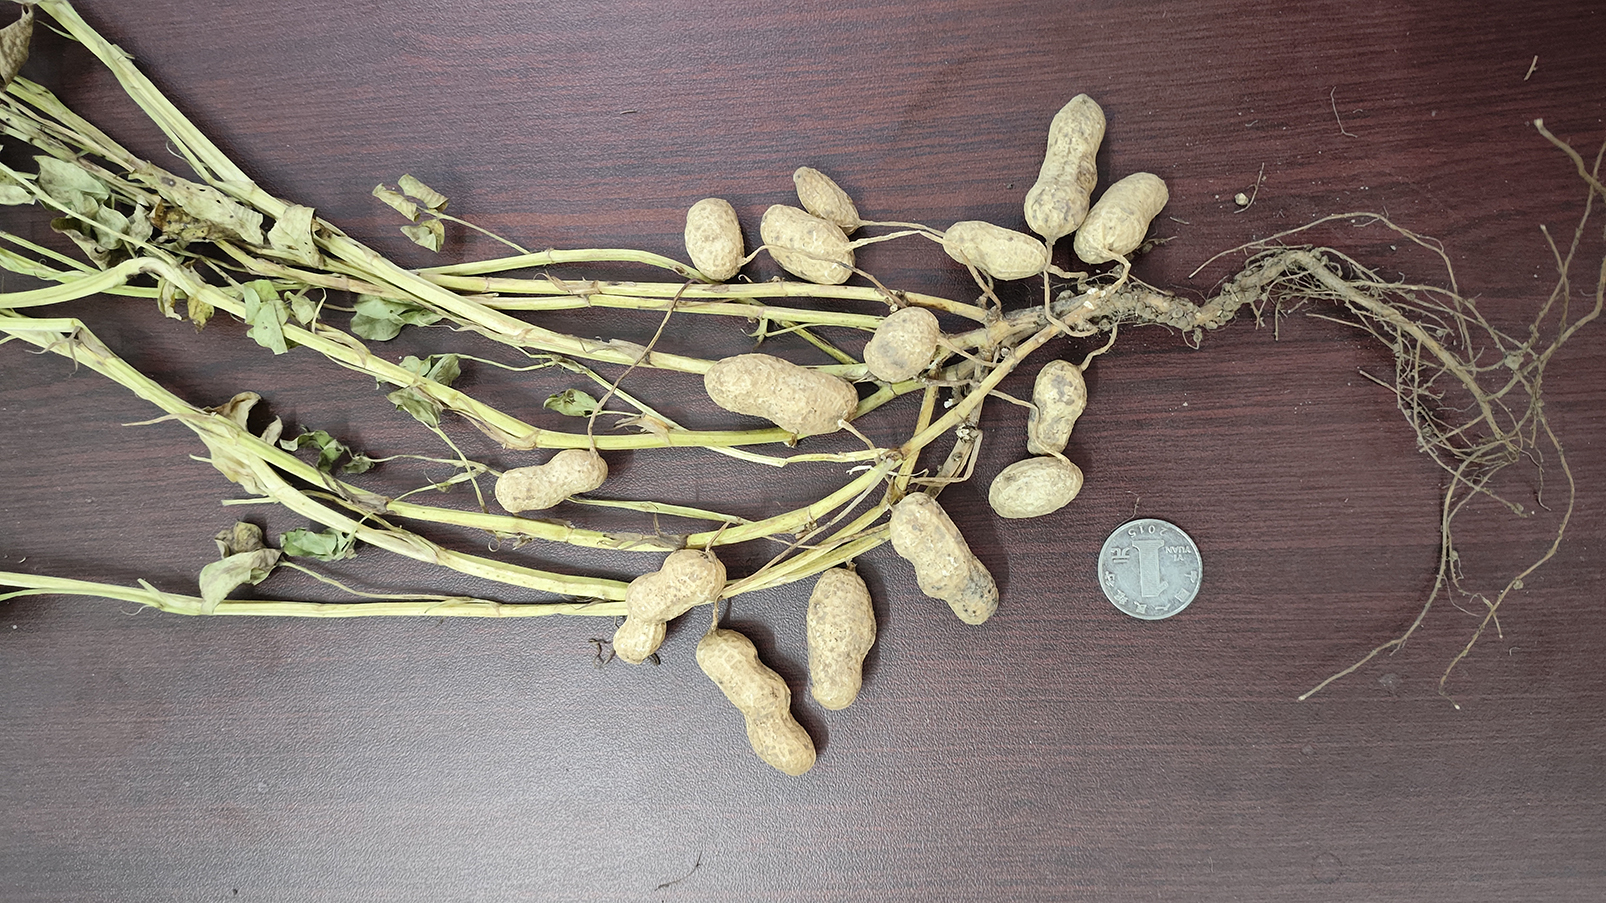h: (697, 628, 817, 774), (890, 492, 999, 623), (613, 547, 730, 663), (704, 352, 857, 436), (1023, 93, 1107, 237), (805, 568, 880, 708), (1074, 169, 1169, 265), (494, 448, 610, 516), (761, 203, 854, 282), (941, 218, 1049, 280), (988, 456, 1086, 519), (863, 307, 939, 381), (1028, 359, 1086, 454), (685, 196, 742, 279), (794, 164, 860, 230)
